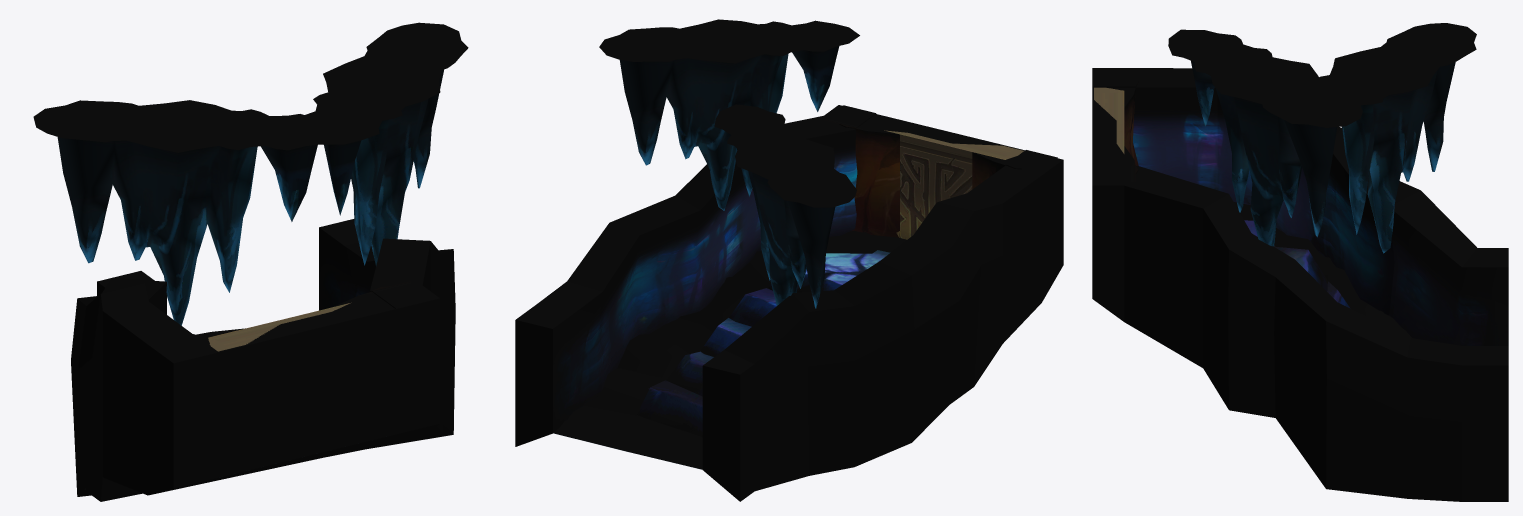
Rendered from Dungeon_052_GoalStep_003.fbx.
3 renders of one model, left to right at view 1: azimuth 30°, elevation 25°; view 2: azimuth 150°, elevation 25°; view 3: azimuth 270°, elevation 25°, orthographic. The views are drawn at different scales.
Parts seen in each view (by area): view 1: Dan1, Dungeon_011_Iwa004_1, Dun_011_Door_002, Dungeon_011_Iwa004_1 (1), Dun_011_Door_003_WarpRoom; view 2: Dan1, Dungeon_011_Iwa004_1 (1), Dungeon_011_Iwa004_1, Dan1_shadow, Dan2, Dun_011_Door_002, Dun_011_Door_003_WarpRoom; view 3: Dan1, Dungeon_011_Iwa004_1 (1), Dungeon_011_Iwa004_1, Dun_011_Door_002, Dan1_shadow, Dan2, Dun_011_Door_003_WarpRoom.
Part boxes in pixels (x1,y1,x2,y2): Dan1: (71,219,455,501); Dungeon_011_Iwa004_1: (33,100,317,325); Dun_011_Door_002: (156,281,433,477); Dungeon_011_Iwa004_1 (1): (299,22,468,265); Dun_011_Door_003_WarpRoom: (208,302,351,351); Dan1: (515,105,1063,501); Dungeon_011_Iwa004_1 (1): (599,19,859,210); Dungeon_011_Iwa004_1: (714,104,856,308); Dan1_shadow: (553,230,896,468); Dan2: (553,250,935,469); Dun_011_Door_002: (824,105,1057,237); Dun_011_Door_003_WarpRoom: (884,130,1023,239); Dan1: (1092,68,1508,501); Dungeon_011_Iwa004_1 (1): (1168,29,1362,246); Dungeon_011_Iwa004_1: (1319,23,1476,253); Dun_011_Door_002: (1092,70,1138,182); Dan1_shadow: (1234,202,1412,338); Dan2: (1244,220,1350,308); Dun_011_Door_003_WarpRoom: (1094,87,1124,153).
Size of what is drawn, in the model's own units: 7.31 by 6.63 by 6.73.
